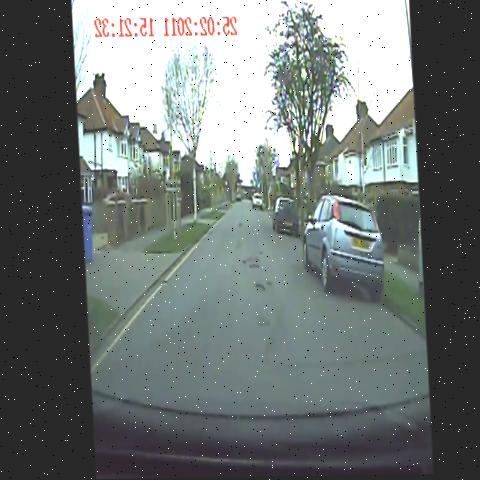pothole: (233, 242, 262, 274), (245, 267, 272, 301), (250, 315, 271, 332), (232, 214, 245, 239)
